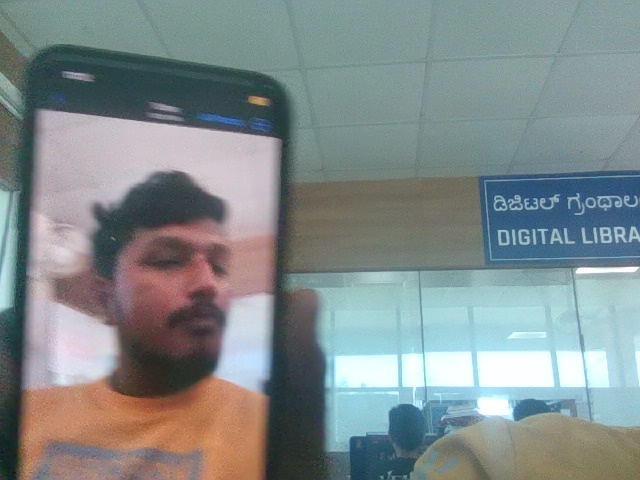fake: (88, 132, 270, 390)
